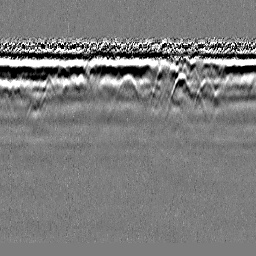cavity: (114, 72, 140, 101)
